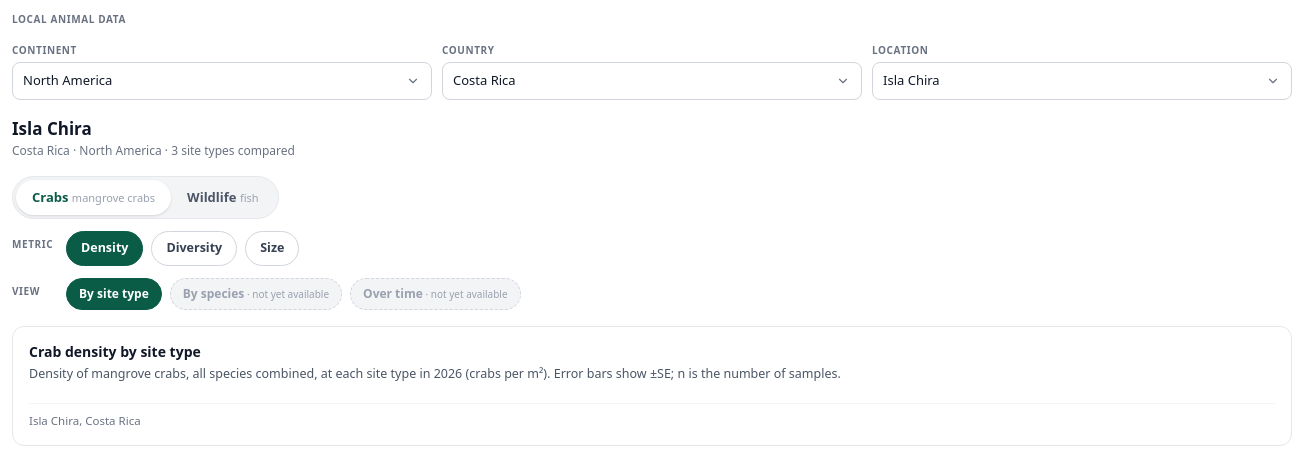
Test: LocalAnimalPanel › flag on › keeps native charts where there are no plots (Costa Rica)
expect the element with test id "native-density-chart" is shown: met, box top-left (12, 326), bottom-right (1292, 446)
Click the button "Diversity" at (194, 248), box top-left (151, 231), bottom-right (237, 266)
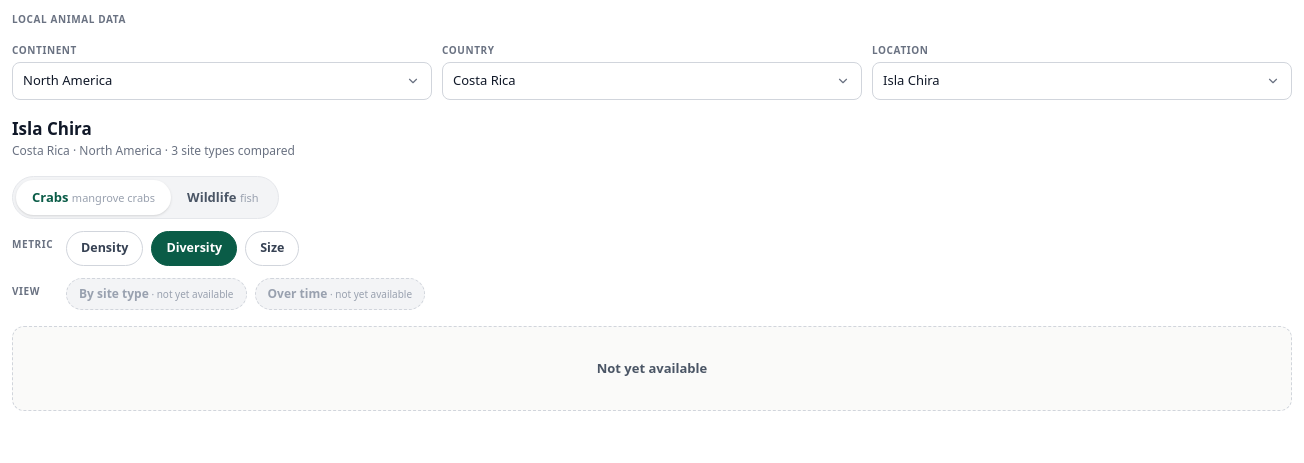
expect the text "Not yet available" is shown: met, box top-left (597, 359), bottom-right (707, 377)
